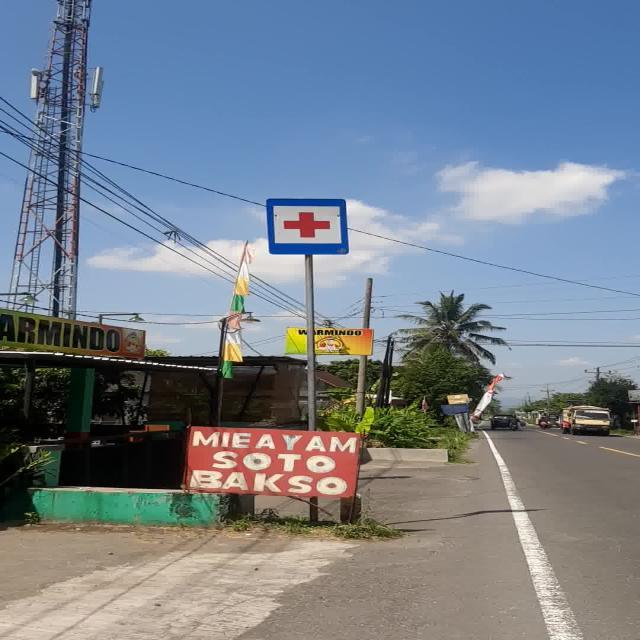Balai Pertolongan Pertama: (266, 199, 348, 254)
